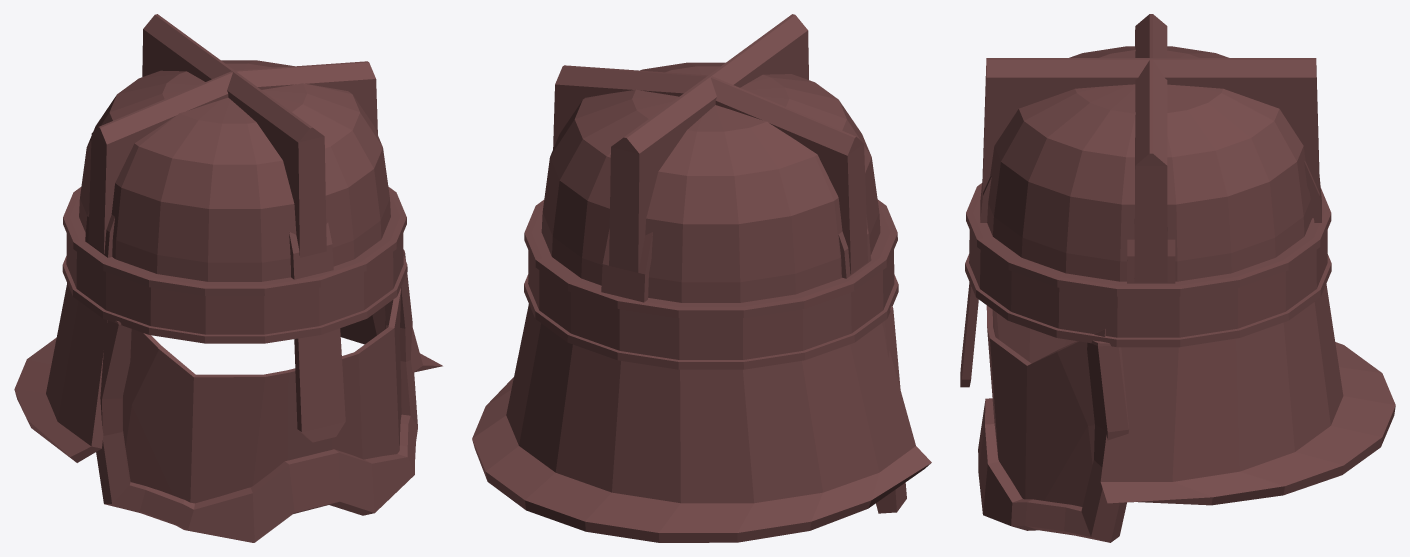
File: SM_helmet_dwraven.fbx
3 renders of one model, left to right at view 1: azimuth 30°, elevation 25°; view 2: azimuth 150°, elevation 25°; view 3: azimuth 270°, elevation 25°, orthographic. The views are drawn at different scales.
Parts seen in each view (by area): view 1: Object465; view 2: Object465; view 3: Object465.
Part boxes in pixels (x1,y1,x2,y2): Object465: (14,14,442,542); Object465: (472,14,931,542); Object465: (960,14,1395,542).
Size of the model in its own units: 12.91 by 13.42 by 12.27.
